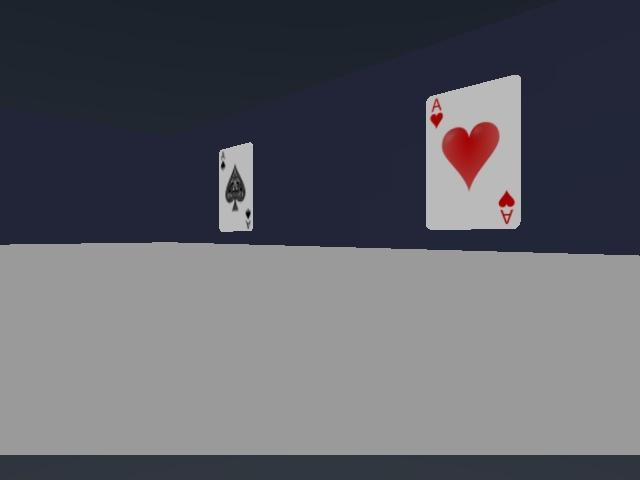heart: (426, 75, 520, 229)
spade: (218, 143, 253, 231)
